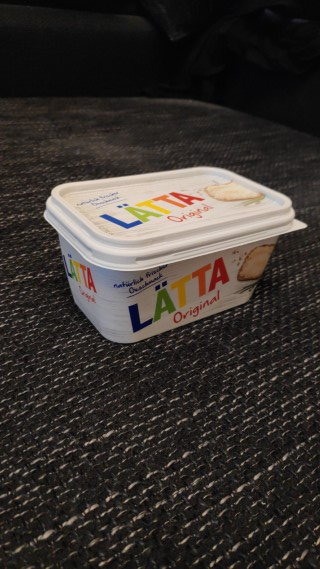laetta: (42, 167, 307, 345)
